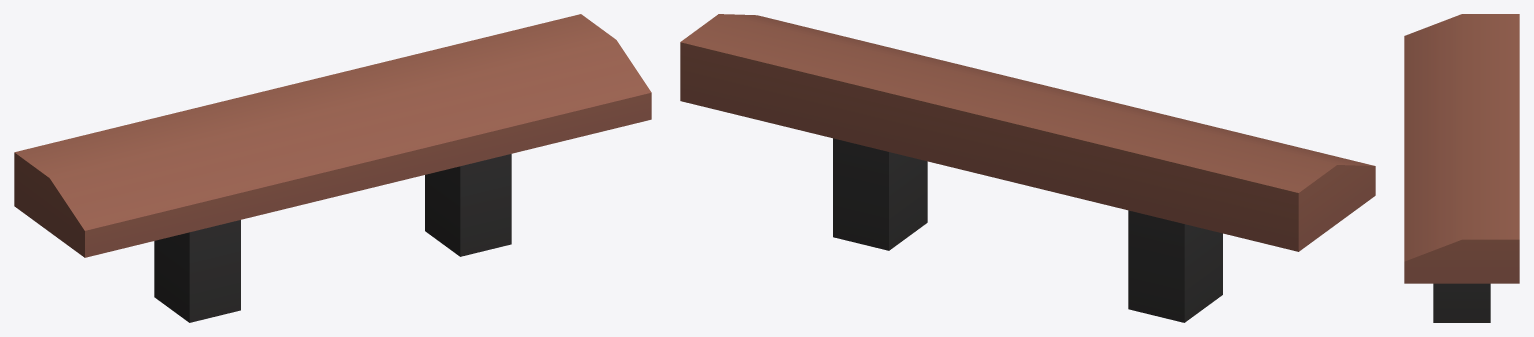
The model's file is debris_spoiler.glb.
3 renders of one model, left to right at view 1: azimuth 30°, elevation 25°; view 2: azimuth 150°, elevation 25°; view 3: azimuth 270°, elevation 25°, orthographic. The views are drawn at different scales.
Parts seen in each view (by area): view 1: debris-spoiler-a; view 2: debris-spoiler-a; view 3: debris-spoiler-a.
Part boxes in pixels (x1,y1,x2,y2): debris-spoiler-a: [14, 14, 651, 322]; debris-spoiler-a: [680, 14, 1375, 322]; debris-spoiler-a: [1404, 14, 1519, 322].
Bounding box in the file's own units: 1.32 × 0.359 × 0.2841.
1 material, 1 textured.
